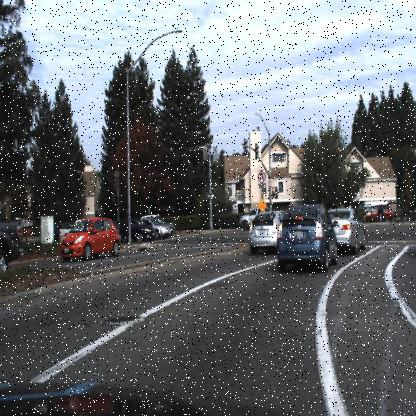car: (276, 202, 339, 272), (60, 214, 121, 262), (326, 206, 365, 254), (248, 207, 283, 254), (0, 215, 25, 274), (118, 213, 152, 243), (118, 218, 156, 244), (144, 216, 172, 241), (237, 205, 261, 233), (57, 218, 81, 243), (152, 221, 170, 240), (169, 218, 175, 236)
